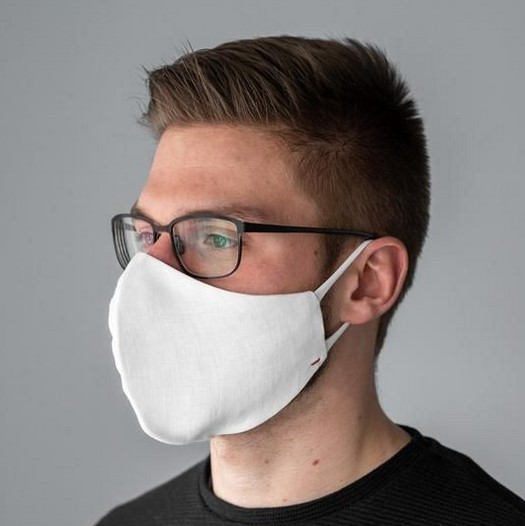face_with_mask: (109, 71, 429, 454)
